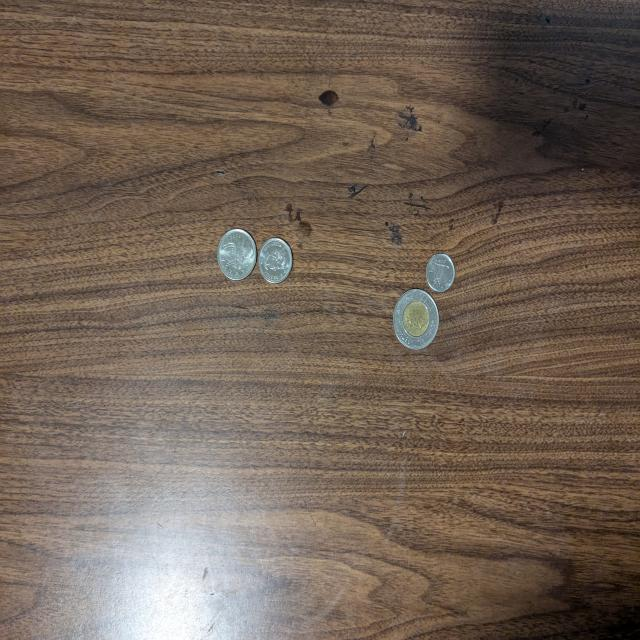dime: (426, 252, 455, 295)
nickel: (260, 237, 294, 286)
quarter: (218, 228, 258, 280)
toonie: (392, 289, 440, 352)
